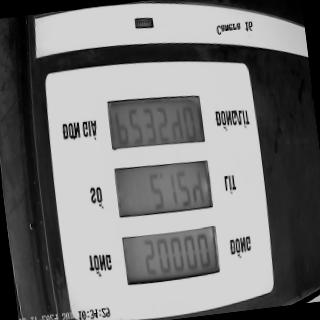screen: (102, 88, 225, 290)
